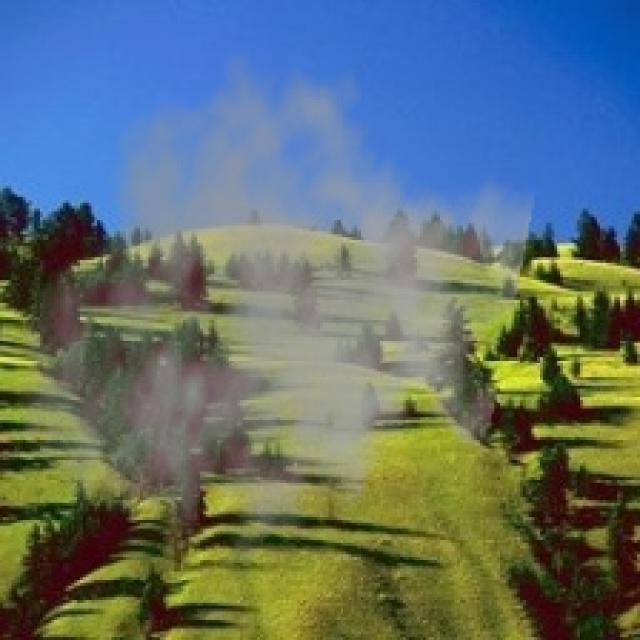smoke: (14, 46, 537, 591)
